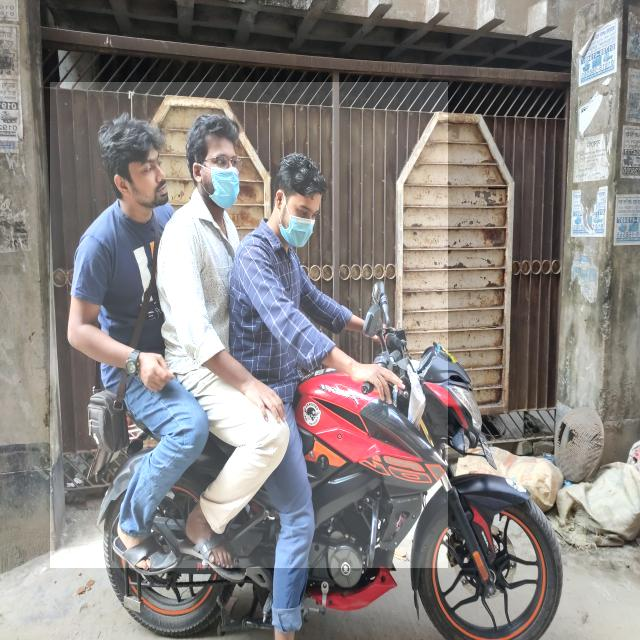Overloading: (50, 82, 448, 568)
